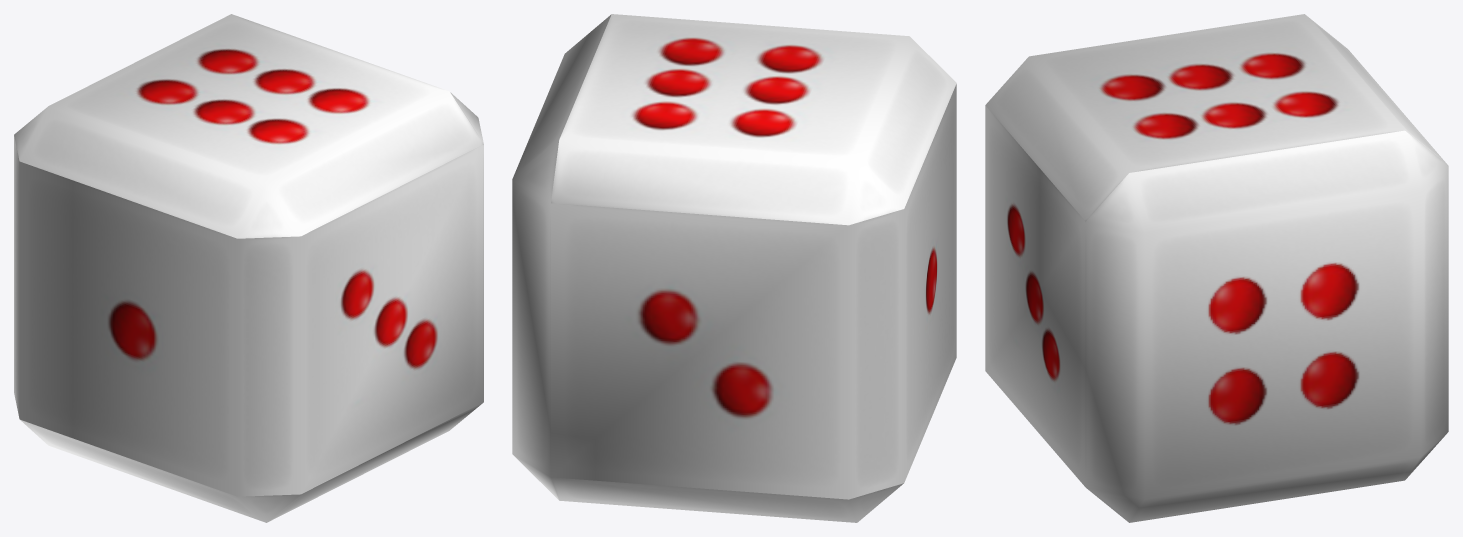
The model's file is 001shaizi_ani.FBX.
3 views of the same model, side by side, from view 1: azimuth 30°, elevation 25°; view 2: azimuth 150°, elevation 25°; view 3: azimuth 270°, elevation 25° (orthographic). The views are drawn at different scales.
Parts seen in each view (by area): view 1: sieve01; view 2: sieve01; view 3: sieve01.
Boxes of the visible parts, x1,y1,x2,y2 form: sieve01: [14, 14, 483, 522]; sieve01: [512, 14, 956, 522]; sieve01: [985, 14, 1448, 522].
Bounding box in the file's own units: 2.43 × 2.43 × 2.03.
